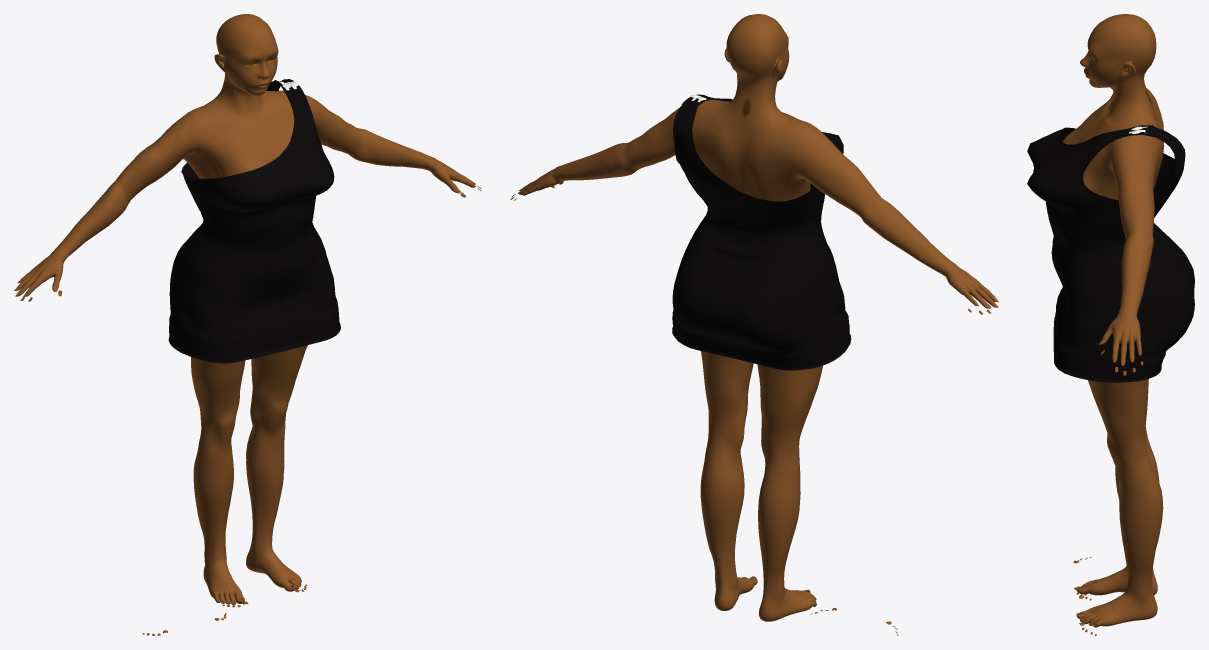
The model's file is dress6.glb.
3 renders of one model, left to right at view 1: azimuth 30°, elevation 25°; view 2: azimuth 150°, elevation 25°; view 3: azimuth 270°, elevation 25°, orthographic. The views are drawn at different scales.
Parts seen in each view (by area): view 1: Body.003, WhiteDress; view 2: Body.003, WhiteDress; view 3: Body.003, WhiteDress.
Part boxes in pixels (bbox=[...]): Body.003: bbox=[16, 14, 475, 604]; WhiteDress: bbox=[168, 79, 340, 363]; Body.003: bbox=[519, 14, 995, 621]; WhiteDress: bbox=[672, 94, 851, 370]; Body.003: bbox=[1063, 14, 1164, 627]; WhiteDress: bbox=[1027, 125, 1194, 382].
Bounding box in the file's own units: 1.6 × 1.89 × 0.4766.
